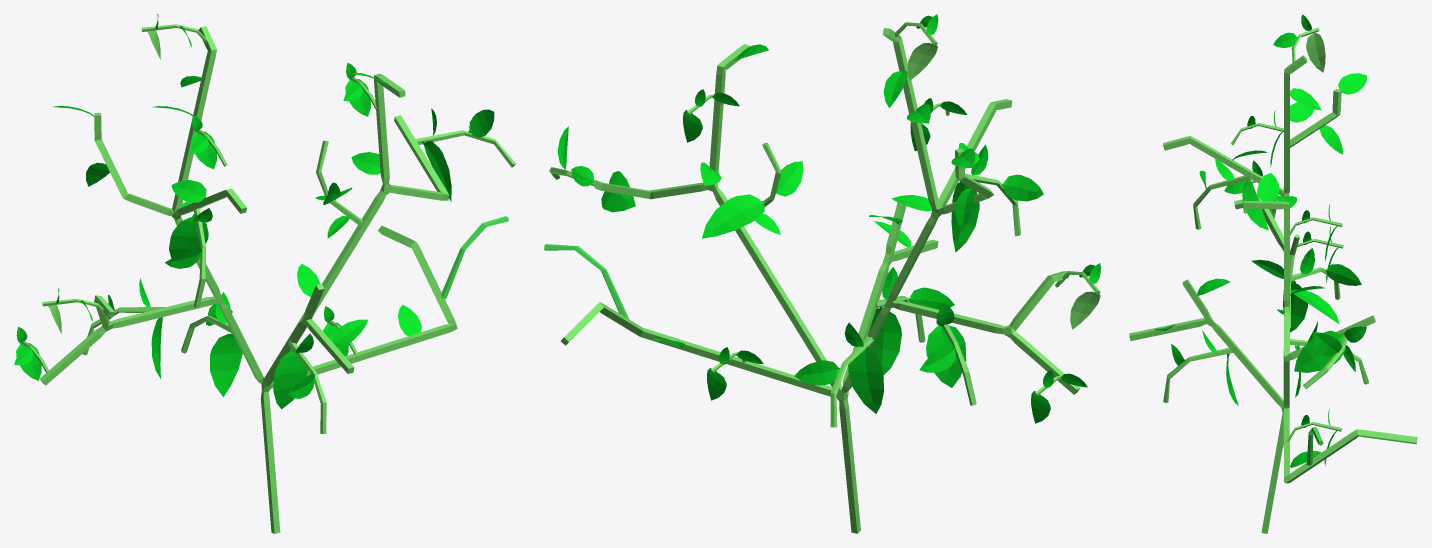
File: Grown.fbx
3 views of the same model, side by side, from view 1: azimuth 30°, elevation 25°; view 2: azimuth 150°, elevation 25°; view 3: azimuth 270°, elevation 25° (orthographic). The views are drawn at different scales.
Parts seen in each view (by area): view 1: Main Branch; view 2: Main Branch; view 3: Main Branch.
Part boxes in pixels (x1,y1,x2,y2): Main Branch: (14, 14, 515, 533); Main Branch: (544, 14, 1100, 533); Main Branch: (1129, 14, 1417, 533).
Bounding box in the file's own units: 616 × 617 × 339.
